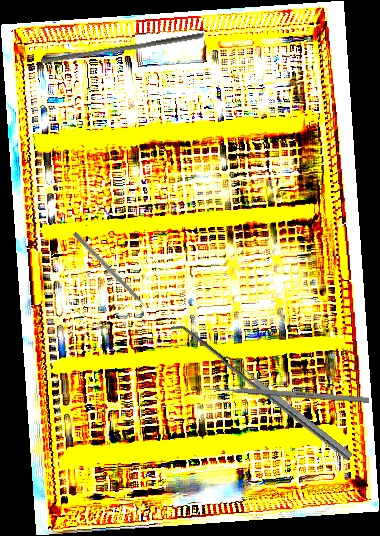Pusher: (40, 26, 205, 70), (71, 231, 155, 317), (198, 385, 370, 403)
Spatula Surgical: (168, 317, 353, 468)
